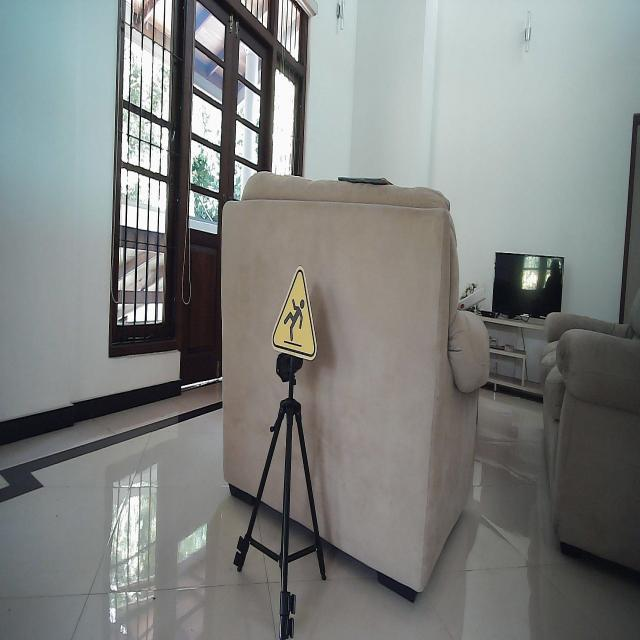slippery_sign: (270, 263, 318, 363)
